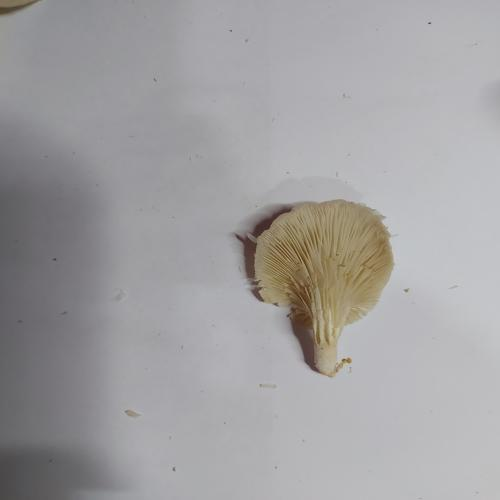Oyster Mushroom: (246, 198, 396, 378)
